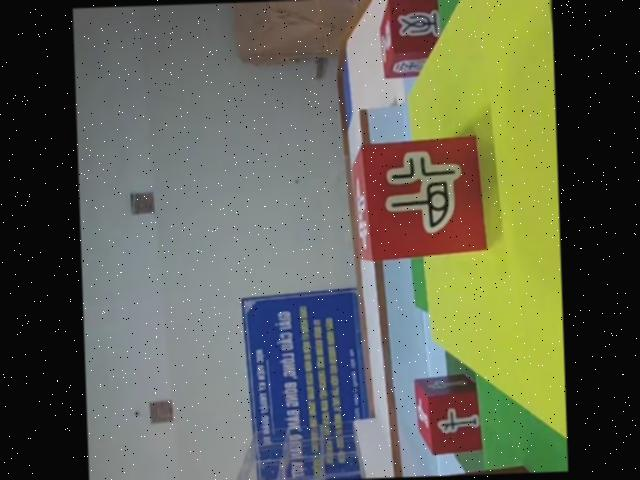R2 Fake: (373, 0, 443, 82)
R2 Real: (346, 134, 490, 265), (409, 373, 484, 458)
